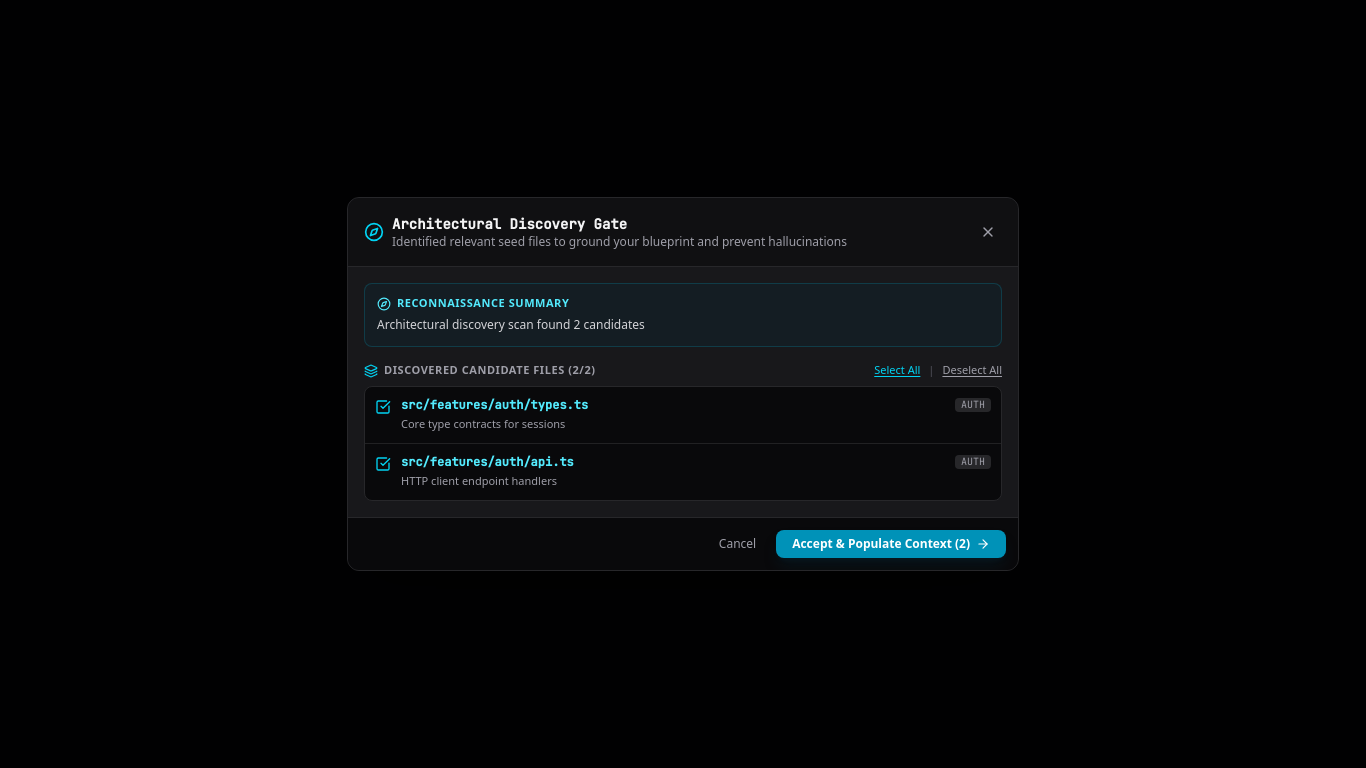
Scenario: BlueprintDiscoveryModal › toggles candidate file selection on click
The width and height of the screenshot is (1366, 768).
Click the text "src/features/auth/types.ts" at [495, 405], box [401,397,588,413]
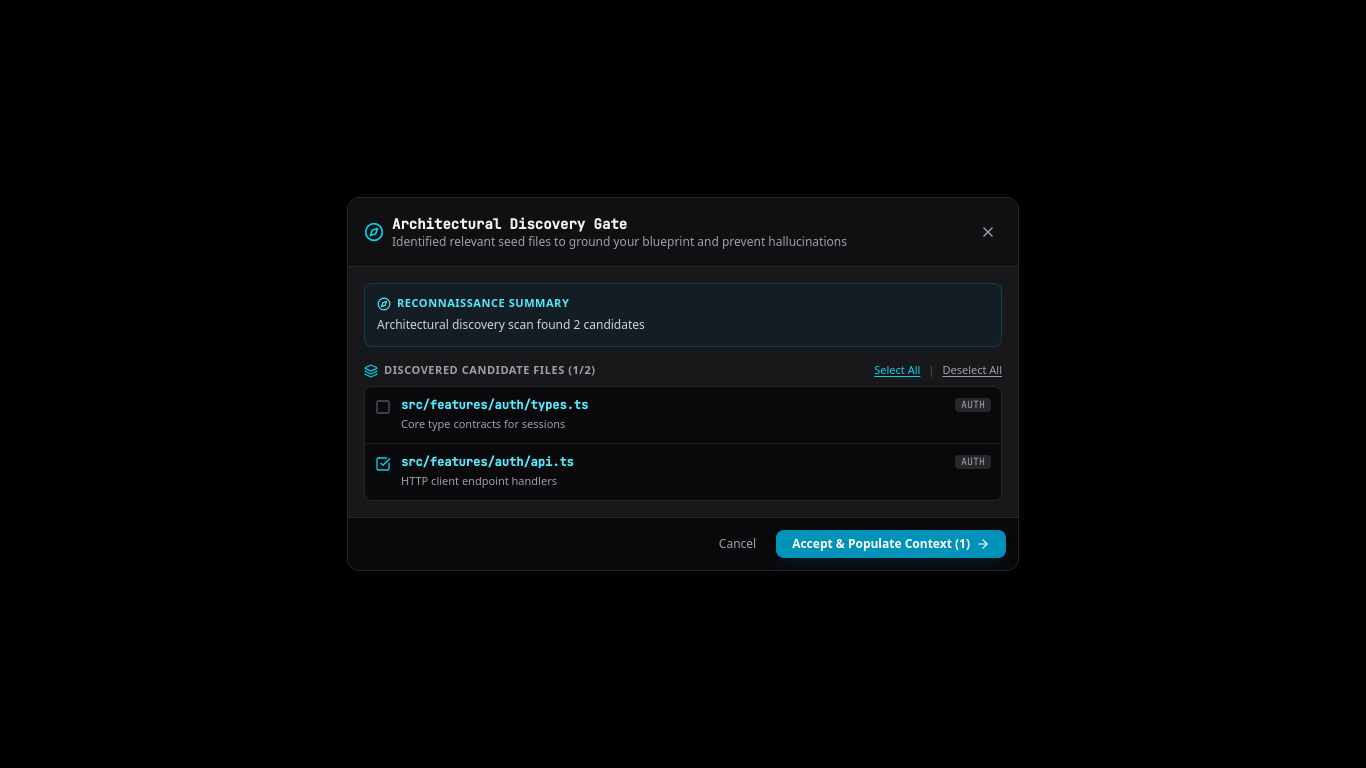
Check: the text "Discovered Candidate Files (1/2)" is shown, box [384,363,596,378]
Check: the text "Accept & Populate Context (1)" is shown, box [792,536,970,552]
